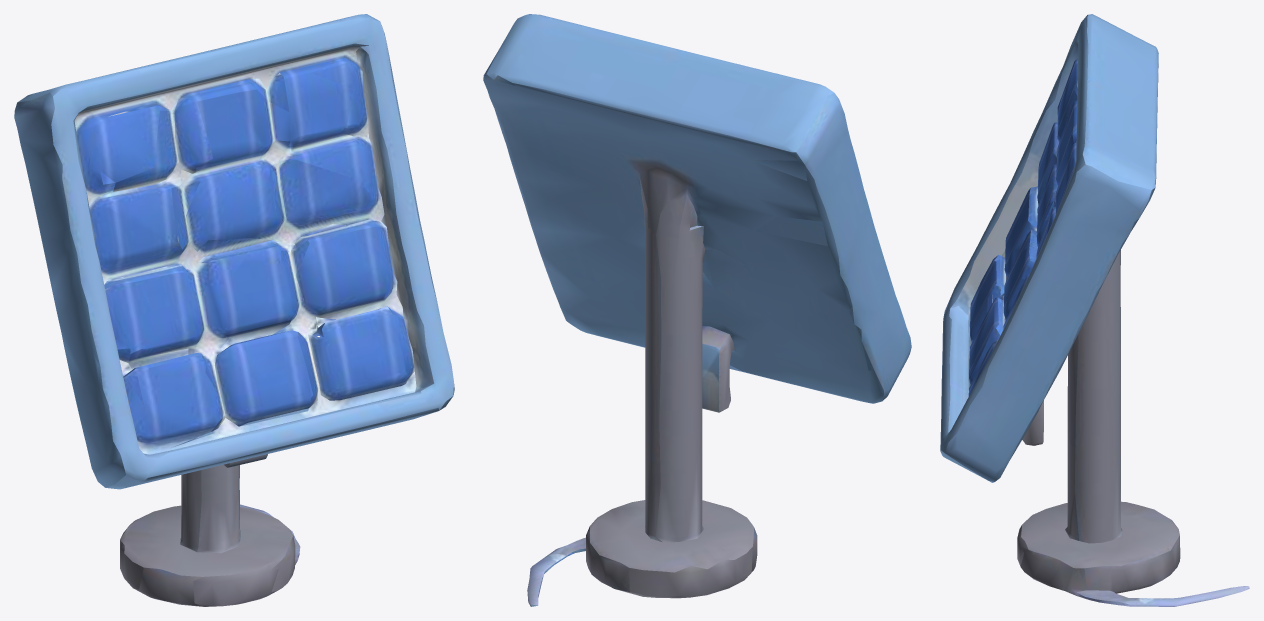
The model's file is solar_panel.glb.
3 renders of one model, left to right at view 1: azimuth 30°, elevation 25°; view 2: azimuth 150°, elevation 25°; view 3: azimuth 270°, elevation 25°, orthographic. The views are drawn at different scales.
Parts seen in each view (by area): view 1: solar_panel_s41; view 2: solar_panel_s41; view 3: solar_panel_s41.
Part boxes in pixels (<box>): solar_panel_s41: <box>14,14,454,606</box>; solar_panel_s41: <box>483,14,911,606</box>; solar_panel_s41: <box>940,14,1249,606</box>.
Size of the model in its own units: 0.6727 by 1 by 0.583.
Materials: 1 (1 with a texture image).
